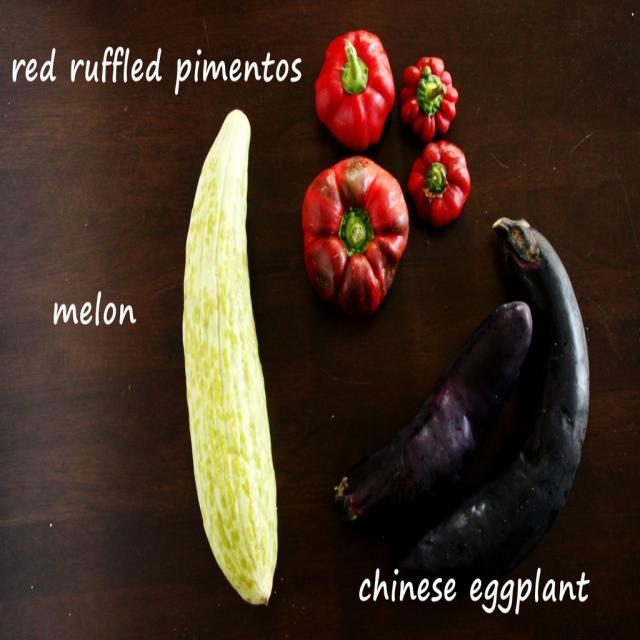Bell pepper: (304, 158, 411, 320), (316, 30, 396, 150), (410, 146, 471, 228), (401, 59, 460, 143)
